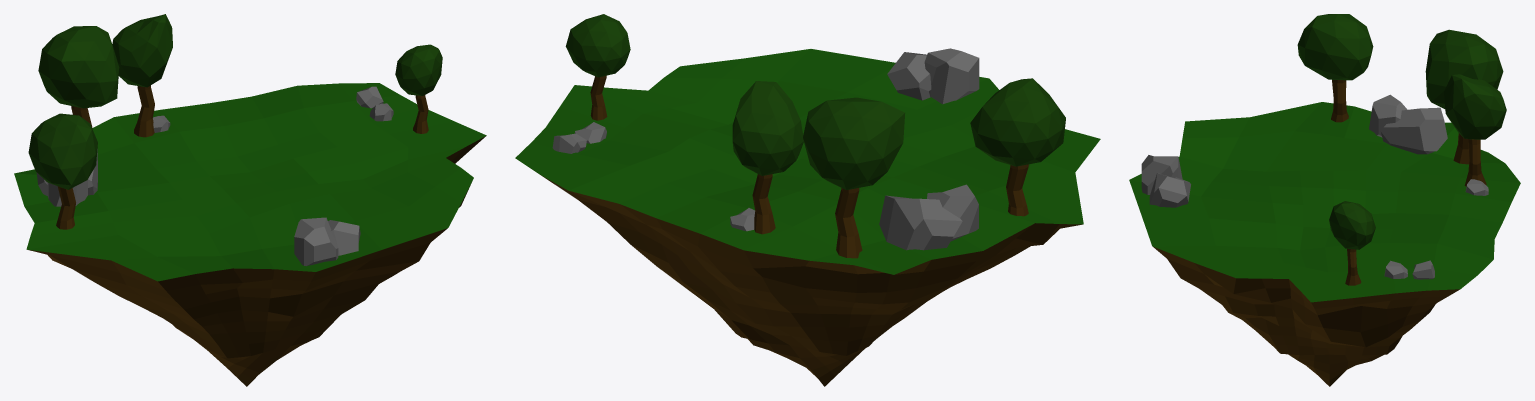
File: Danger Islands (Island prototype).fbx
The picture shows the model from 3 angles, left to right: view 1: azimuth 30°, elevation 25°; view 2: azimuth 150°, elevation 25°; view 3: azimuth 270°, elevation 25°; orthographic projection. The views are drawn at different scales.
Parts seen in each view (by area): view 1: Cube, Tree Leafs.001, Tree Leafs.002, Tree Leafs, Tree Leafs.003, Cube.001, Cube.002, Cube.003, Cube.004, Cube.006; view 2: Cube, Tree Leafs.001, Tree Leafs.002, Tree Leafs, Tree Leafs.003, Cube.006, Cube.001, Cube.002, Cube.003, Cube.004; view 3: Cube, Tree Leafs.002, Tree Leafs.001, Tree Leafs, Cube.006, Tree Leafs.003, Cube.002, Cube.001, Cube.003, Cube.004, Cube.005.
Boxes of the visible parts, x1=… form: Cube: x1=14, y1=83, x2=486, y2=386; Tree Leafs.001: x1=38, y1=26, x2=119, y2=127; Tree Leafs.002: x1=28, y1=113, x2=97, y2=229; Tree Leafs: x1=112, y1=14, x2=172, y2=137; Tree Leafs.003: x1=395, y1=44, x2=442, y2=133; Cube.001: x1=294, y1=217, x2=338, y2=266; Cube.002: x1=328, y1=220, x2=360, y2=255; Cube.003: x1=46, y1=179, x2=87, y2=206; Cube.004: x1=356, y1=86, x2=383, y2=108; Cube.006: x1=36, y1=149, x2=97, y2=195; Cube: x1=515, y1=49, x2=1100, y2=386; Tree Leafs.001: x1=803, y1=97, x2=905, y2=258; Tree Leafs.002: x1=970, y1=78, x2=1065, y2=216; Tree Leafs: x1=732, y1=81, x2=803, y2=234; Tree Leafs.003: x1=565, y1=14, x2=630, y2=120; Cube.006: x1=879, y1=195, x2=962, y2=250; Cube.001: x1=924, y1=48, x2=979, y2=104; Cube.002: x1=887, y1=52, x2=931, y2=100; Cube.003: x1=927, y1=184, x2=978, y2=241; Cube.004: x1=552, y1=133, x2=586, y2=153; Cube: x1=1129, y1=102, x2=1520, y2=386; Tree Leafs.002: x1=1297, y1=14, x2=1373, y2=122; Tree Leafs.001: x1=1425, y1=29, x2=1503, y2=164; Tree Leafs: x1=1444, y1=74, x2=1506, y2=186; Cube.006: x1=1380, y1=107, x2=1447, y2=154; Tree Leafs.003: x1=1329, y1=201, x2=1375, y2=285; Cube.002: x1=1149, y1=172, x2=1190, y2=207; Cube.001: x1=1141, y1=155, x2=1182, y2=194; Cube.003: x1=1369, y1=94, x2=1407, y2=137; Cube.004: x1=1412, y1=260, x2=1434, y2=279; Cube.005: x1=1384, y1=260, x2=1407, y2=278.
Bounding box in the file's own units: 2253 × 1551 × 1796.
